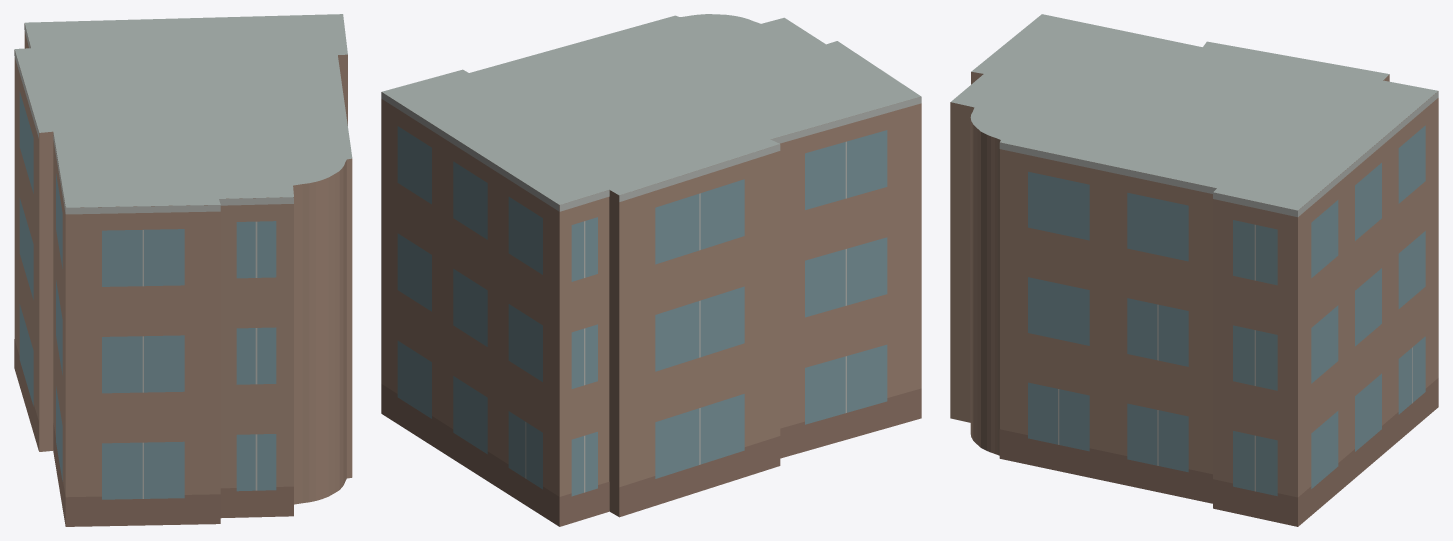
Rendered from survey-upis-32585819.glb.
3 views of the same model, side by side, from view 1: azimuth 30°, elevation 25°; view 2: azimuth 150°, elevation 25°; view 3: azimuth 270°, elevation 25° (orthographic).
Visible parts, largest first — view 1: survey-upis-32585819.tmp; view 2: survey-upis-32585819.tmp; view 3: survey-upis-32585819.tmp.
Part boxes in pixels (left/top/right/bottom): survey-upis-32585819.tmp: left=14, top=14, right=352, bottom=526; survey-upis-32585819.tmp: left=381, top=14, right=921, bottom=526; survey-upis-32585819.tmp: left=950, top=14, right=1438, bottom=526.
Bounding box in the file's own units: 15.4 × 11.55 × 16.16.
